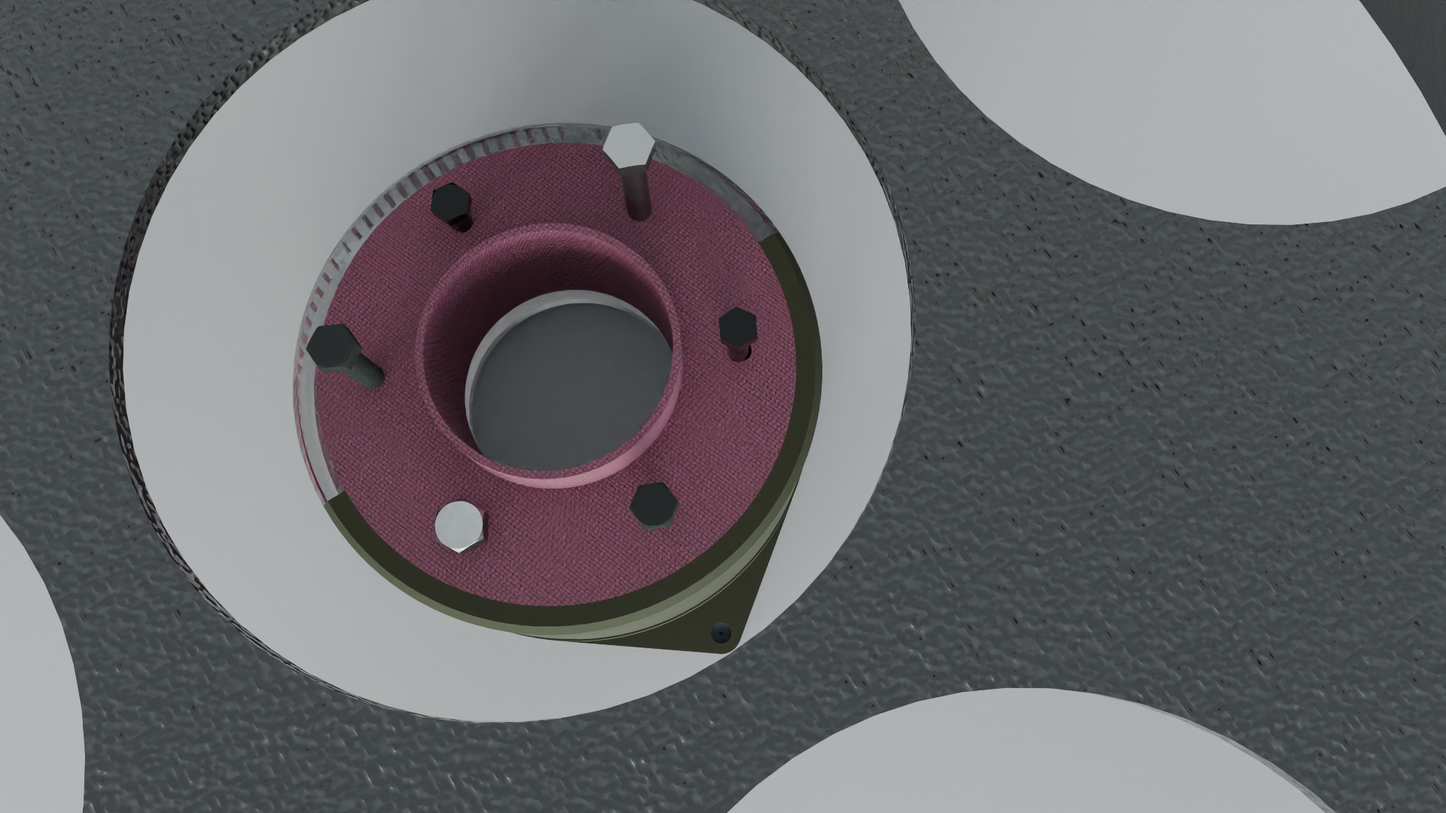bolt: (435, 498, 484, 553), (602, 123, 655, 169), (306, 324, 356, 369), (630, 483, 679, 528), (719, 307, 758, 348), (431, 182, 469, 221)
